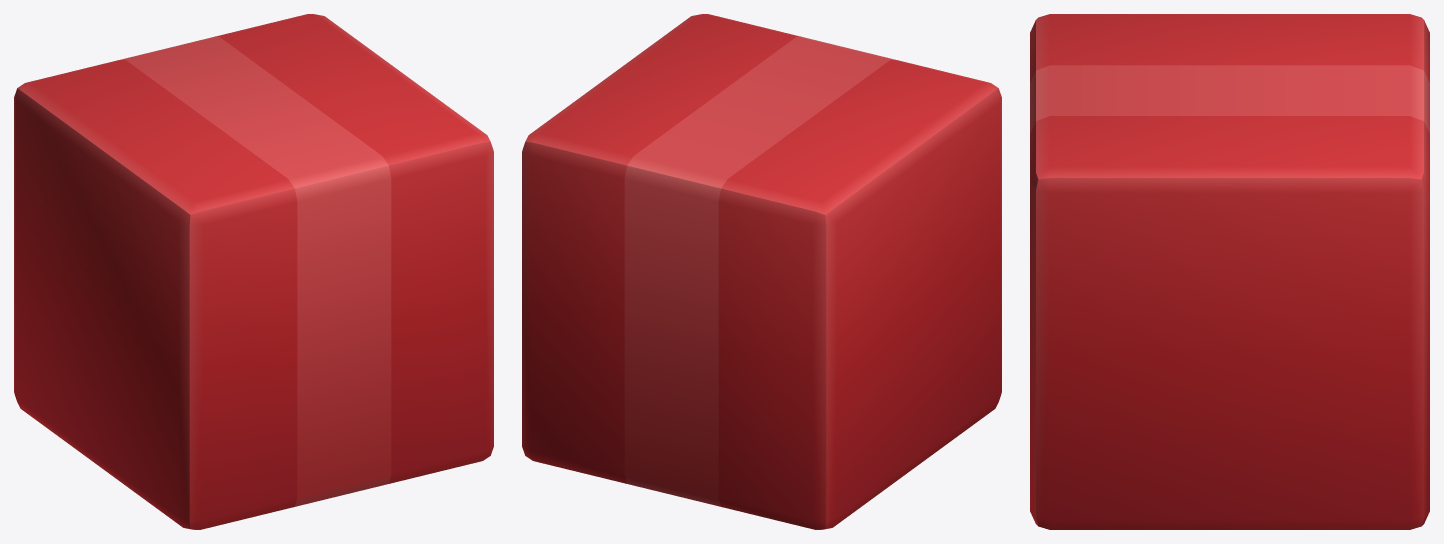
File: striped_block_red.glb
3 renders of one model, left to right at view 1: azimuth 30°, elevation 25°; view 2: azimuth 150°, elevation 25°; view 3: azimuth 270°, elevation 25°, orthographic. The views are drawn at different scales.
Visible parts, largest first — view 1: striped_block_red; view 2: striped_block_red; view 3: striped_block_red.
Part boxes in pixels (bbox=[...]): striped_block_red: bbox=[14, 14, 493, 529]; striped_block_red: bbox=[522, 14, 1001, 529]; striped_block_red: bbox=[1030, 14, 1429, 529].
Bounding box in the file's own units: 2 × 2 × 2.
1 material, 1 textured.
